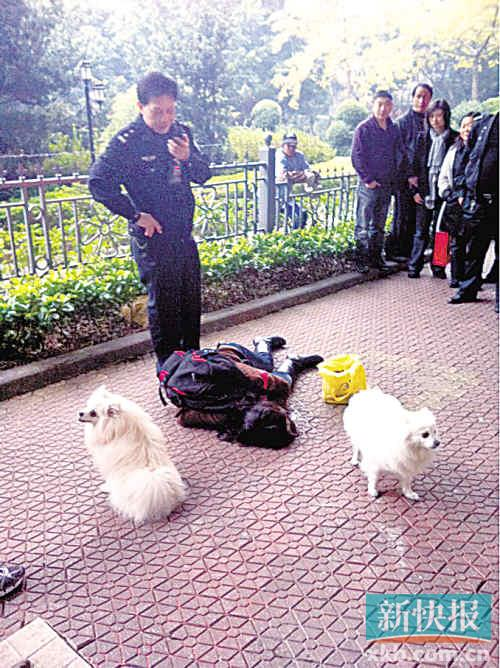fall: (166, 321, 324, 463)
